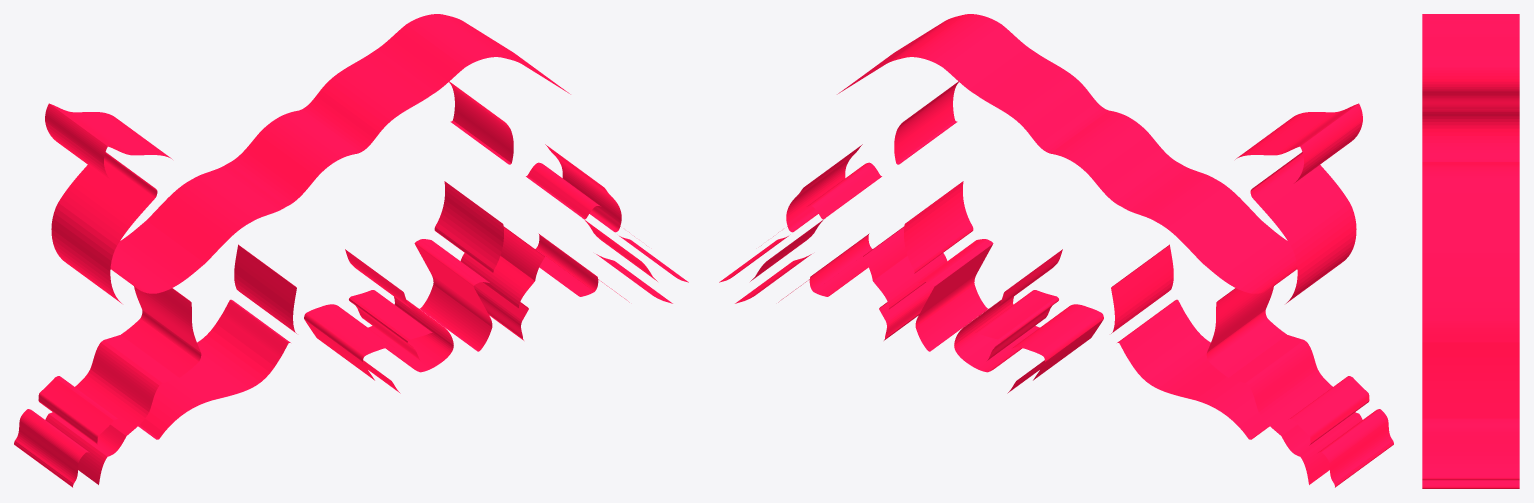
The model's file is launch_bull_walls.glb.
3 views of the same model, side by side, from view 1: azimuth 30°, elevation 25°; view 2: azimuth 150°, elevation 25°; view 3: azimuth 270°, elevation 25° (orthographic). The views are drawn at different scales.
Visible parts, largest first — view 1: bull_walls; view 2: bull_walls; view 3: bull_walls.
Part boxes in pixels (box(x1,y1,x2,y2)): bull_walls: box(14, 14, 688, 487); bull_walls: box(719, 14, 1393, 487); bull_walls: box(1422, 14, 1519, 488).
Size of the model in its own units: 0.1693 by 0.0891 by 0.028.
